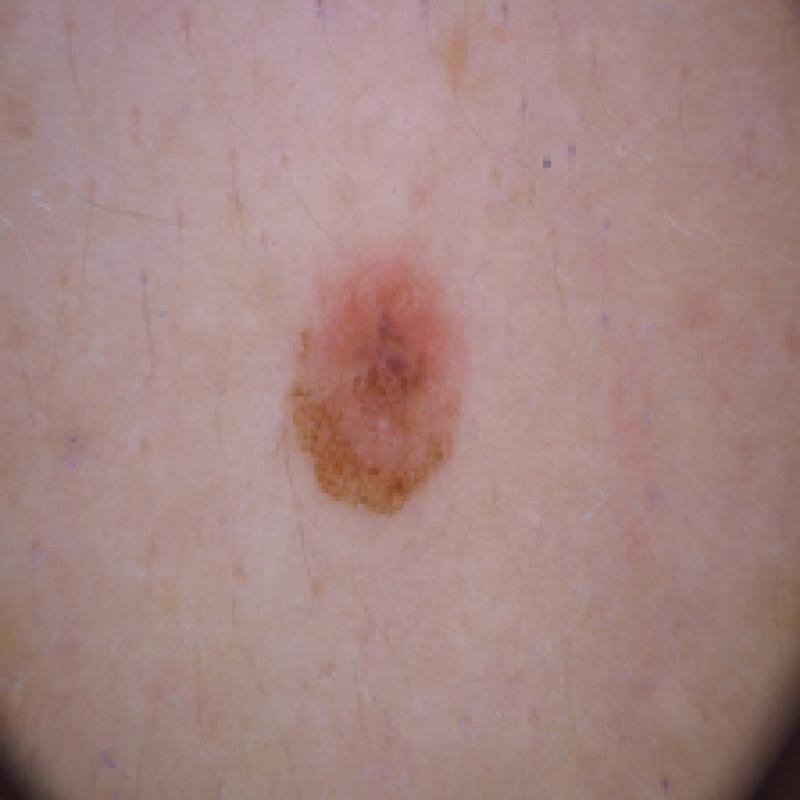benign: (275, 239, 481, 527)
